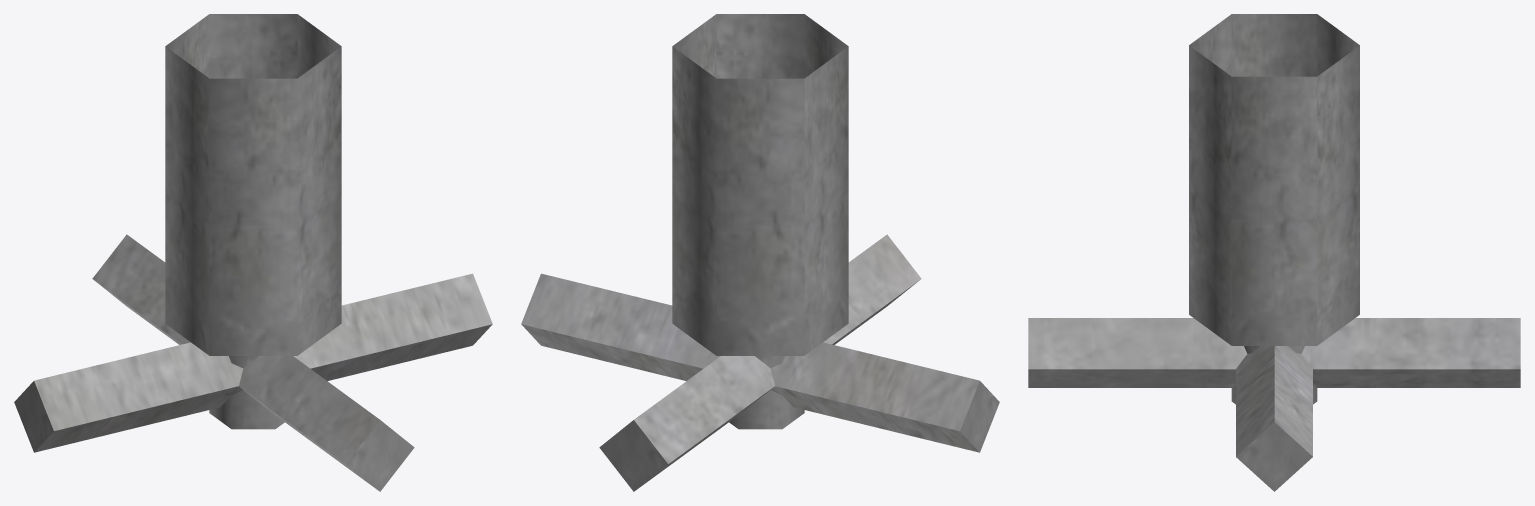
The model's file is Manija_02.glb.
3 views of the same model, side by side, from view 1: azimuth 30°, elevation 25°; view 2: azimuth 150°, elevation 25°; view 3: azimuth 270°, elevation 25° (orthographic). The views are drawn at different scales.
Visible parts, largest first — view 1: Manija_02; view 2: Manija_02; view 3: Manija_02.
Part boxes in pixels (x1,y1,x2,y2): Manija_02: (14,14,492,491); Manija_02: (521,14,999,491); Manija_02: (1028,14,1520,491).
Bounding box in the file's own units: 0.0913 × 0.073 × 0.0913.
Materials: 1 (1 with a texture image).
